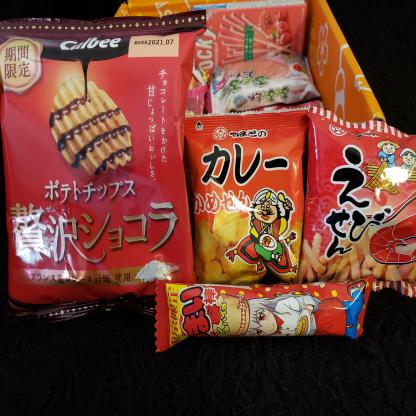potatochip: (0, 13, 208, 337), (174, 95, 310, 299), (292, 93, 416, 310), (149, 269, 375, 360)
